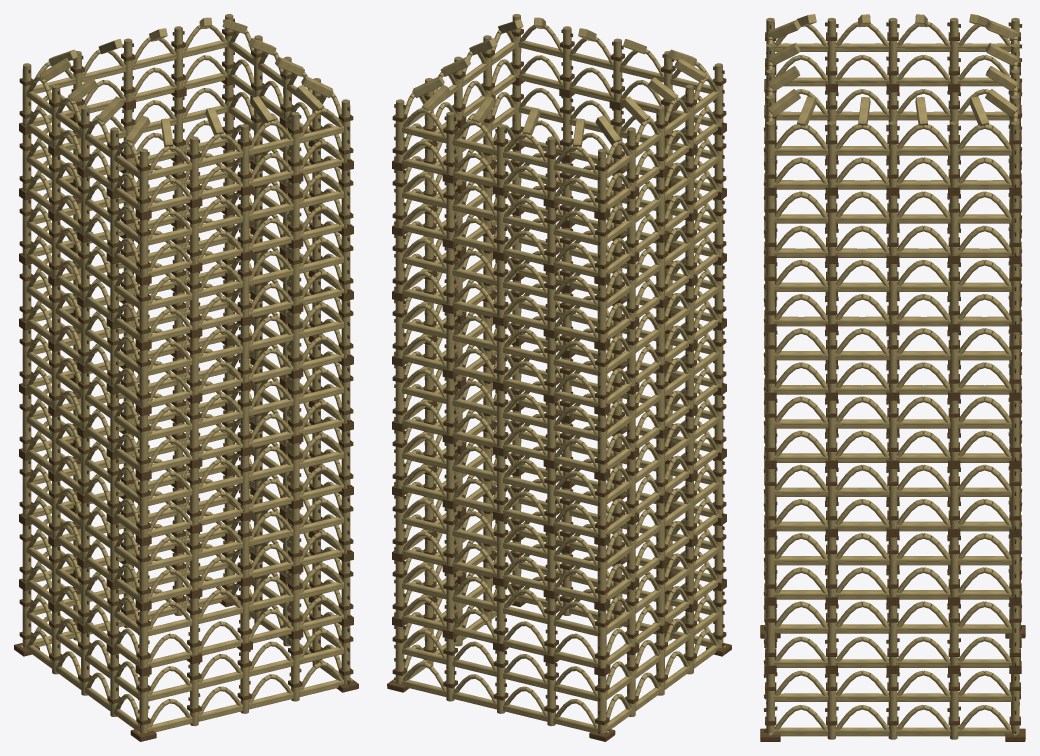
3 renders of one model, left to right at view 1: azimuth 30°, elevation 25°; view 2: azimuth 150°, elevation 25°; view 3: azimuth 270°, elevation 25°, orthographic. The views are drawn at different scales.
Parts seen in each view (by area): view 1: no part large enough to name; view 2: no part large enough to name; view 3: Tier 8 side 1 post 2, Tier 8 side 1 post 1, Tier 8 side 3 post 2, Tier 8 side 1 post 3, Tier 0 side 1 post 2, Tier 8 side 1 post 0, Tier 8 side 3 post 3, Tier 8 side 3 post 1, Tier 0 side 1 post 1, Tier 0 side 1 post 3, Tier 8 side 2 post 0, Tier 7 side 1 post 2 (+33 smaller).
Boxes of the visible parts, x1,y1,x2,y2 form: Tier 8 side 1 post 2: [888, 121, 897, 187]; Tier 8 side 1 post 1: [827, 121, 836, 187]; Tier 8 side 3 post 2: [888, 18, 897, 83]; Tier 8 side 1 post 3: [949, 121, 958, 187]; Tier 0 side 1 post 2: [888, 674, 897, 739]; Tier 8 side 1 post 0: [766, 121, 774, 187]; Tier 8 side 3 post 3: [827, 17, 836, 83]; Tier 8 side 3 post 1: [949, 17, 958, 83]; Tier 0 side 1 post 1: [827, 674, 836, 739]; Tier 0 side 1 post 3: [949, 674, 958, 739]; Tier 8 side 2 post 0: [1011, 121, 1019, 187]; Tier 7 side 1 post 2: [888, 195, 897, 255].
Bounding box in the file's own units: 1.95 × 5.11 × 1.95.
Materials: 2 (2 with a texture image).
